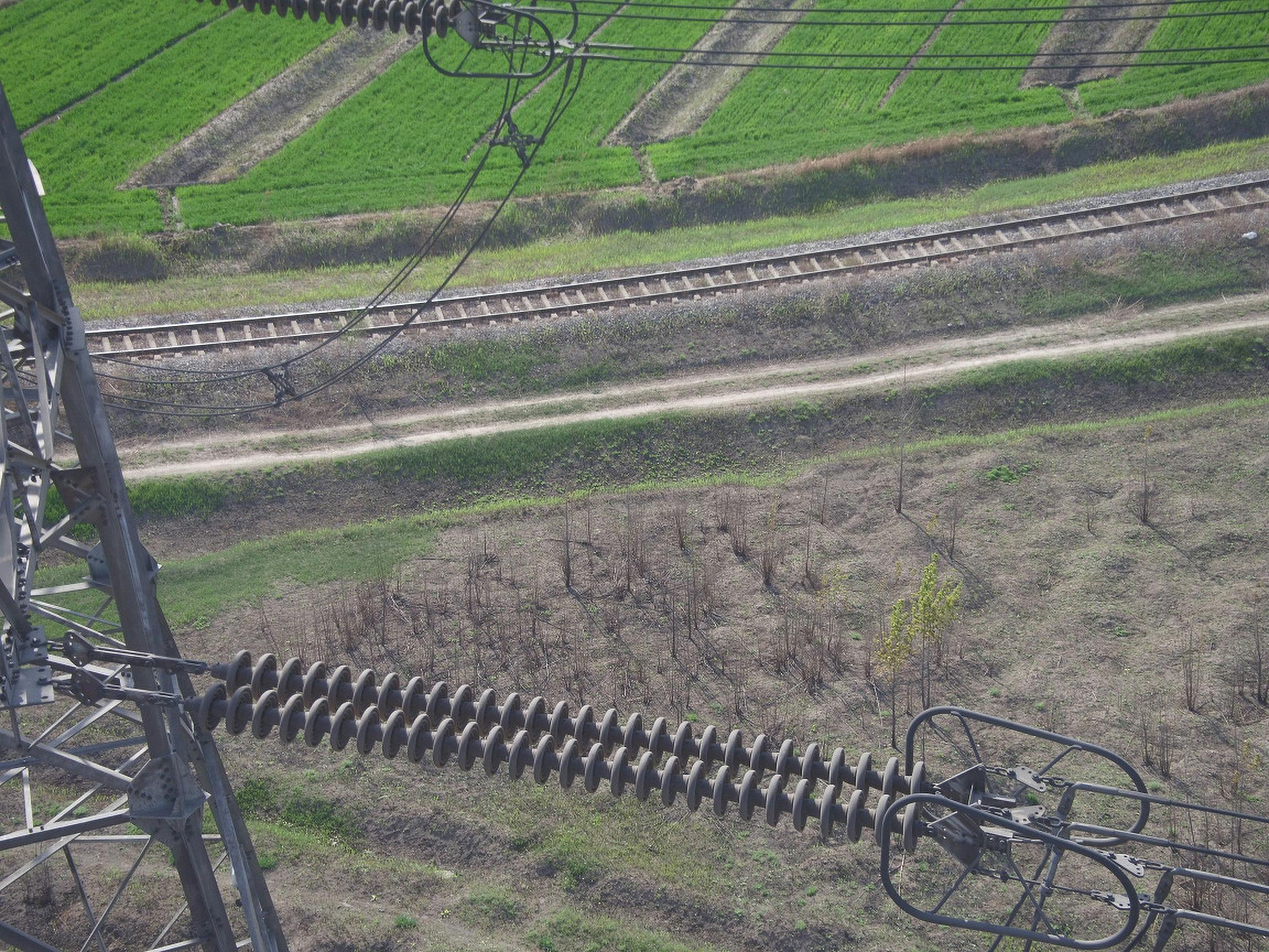insulator: (194, 645, 931, 856), (208, 1, 463, 42)
